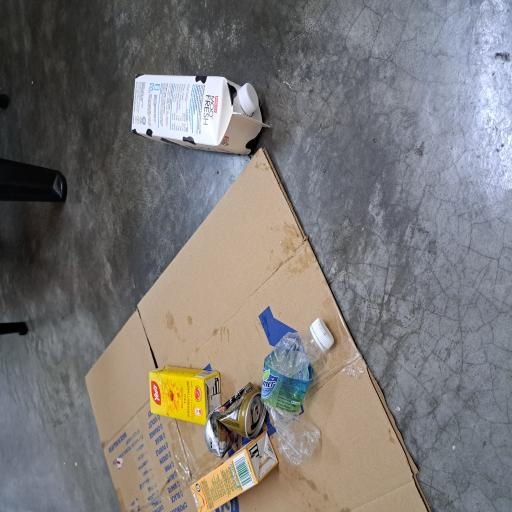can: (40, 273, 98, 354)
cardboard: (0, 114, 272, 512)
drink carton: (267, 174, 329, 360), (0, 254, 62, 372), (65, 199, 110, 294)
plastic bottle: (35, 348, 137, 429)
plastic bottle cap: (121, 416, 146, 446), (298, 320, 322, 345)
pop tab: (66, 338, 82, 347)
